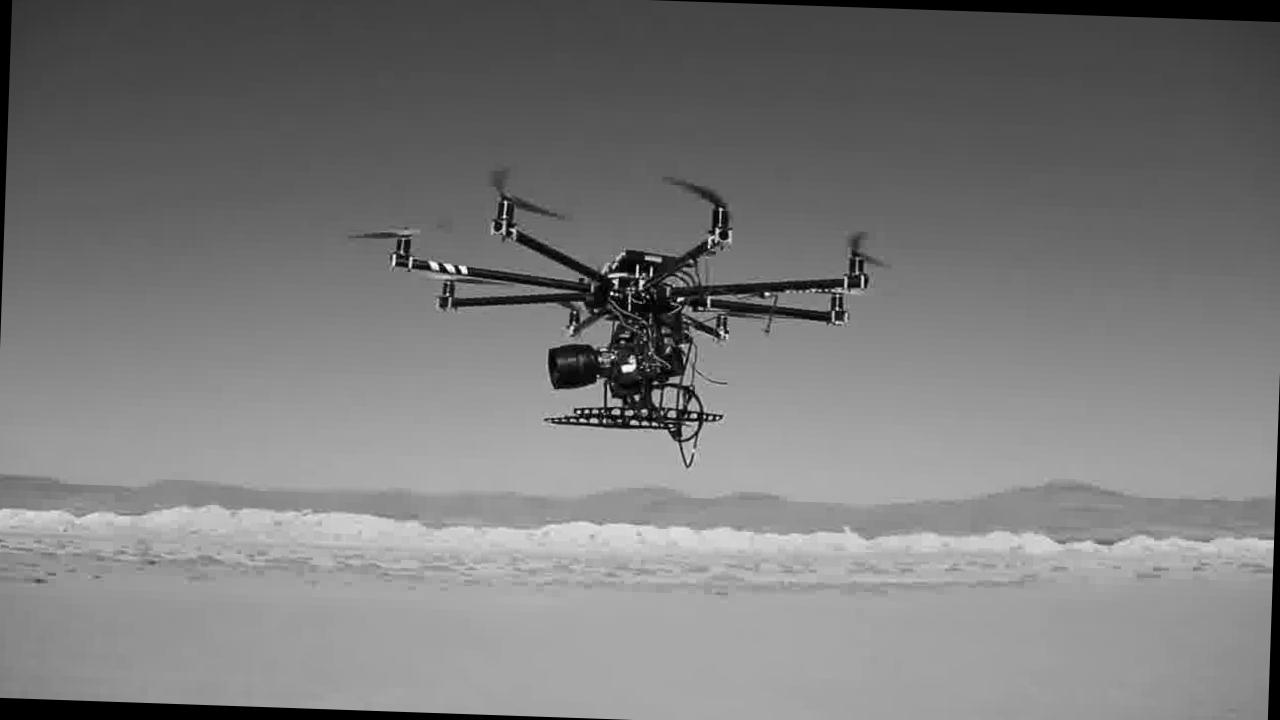drone: (370, 161, 874, 445)
